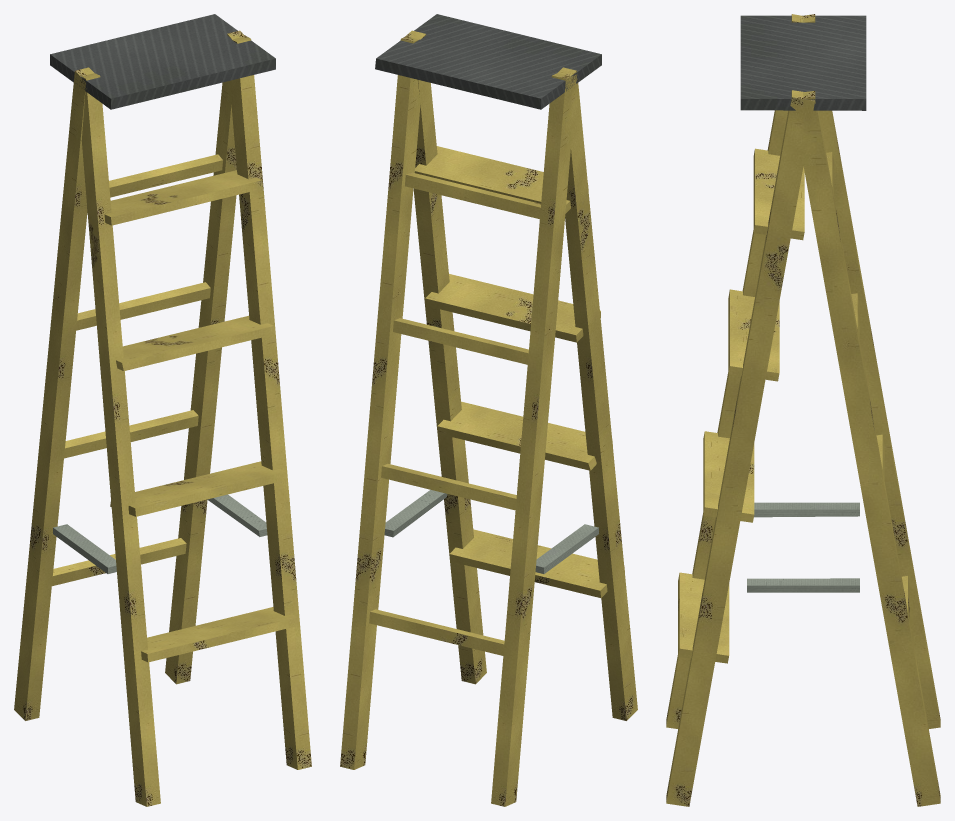
File: ladder_v1.glb
3 renders of one model, left to right at view 1: azimuth 30°, elevation 25°; view 2: azimuth 150°, elevation 25°; view 3: azimuth 270°, elevation 25°, orthographic. The views are drawn at different scales.
Visible parts, largest first — view 1: Variant_ladder_1; view 2: Variant_ladder_1; view 3: Variant_ladder_1.
Boxes of the visible parts, x1,y1,x2,y2 form: Variant_ladder_1: [14, 14, 311, 806]; Variant_ladder_1: [340, 14, 637, 806]; Variant_ladder_1: [666, 14, 940, 806].
Size of the model in its own units: 0.4748 by 1.87 by 0.6553.
Materials: 3 (3 with a texture image).
